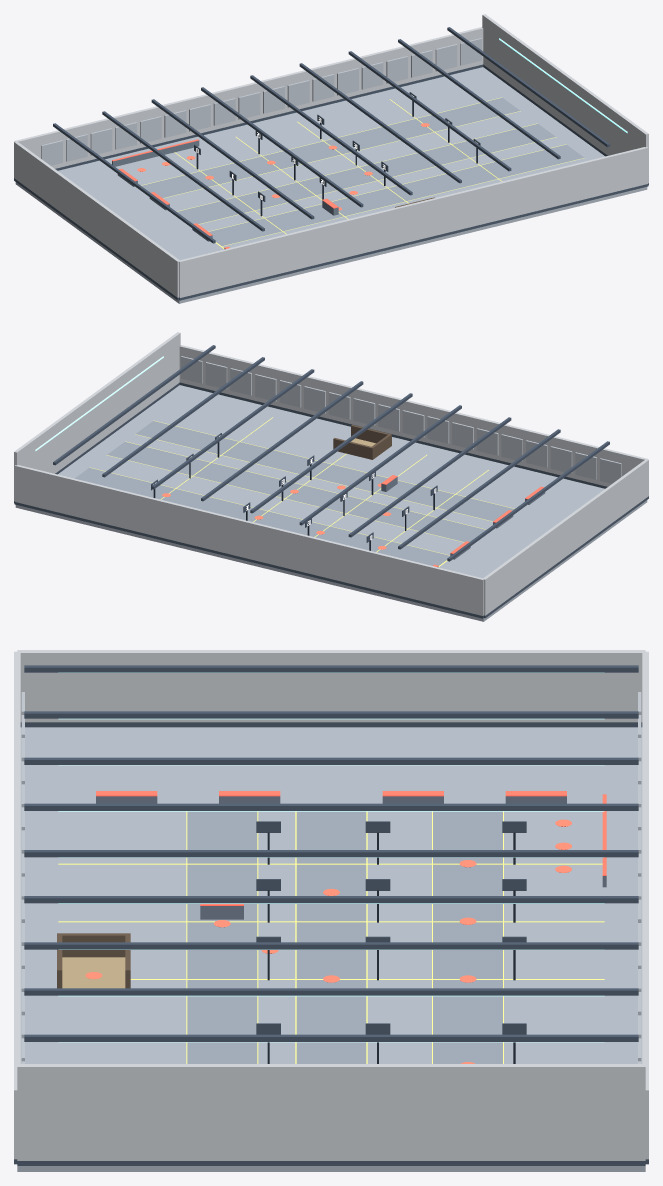
Rendered from range_visual.glb.
3 views of the same model, one above another, from view 1: azimuth 30°, elevation 25°; view 2: azimuth 150°, elevation 25°; view 3: azimuth 270°, elevation 25° (orthographic). The views are drawn at different scales.
Parts seen in each view (by area): view 1: DETAIL_batch, VIS_floor_range, VIS_wall_south, VIS_wall_north, VIS_wall_east, VIS_wall_west, VIS_yard_rail; view 2: DETAIL_batch, VIS_floor_range, VIS_wall_north, VIS_wall_south, VIS_wall_east, VIS_wall_west, VIS_pit_north; view 3: VIS_floor_range, DETAIL_batch, VIS_wall_east, VIS_wall_west, VIS_wall_north, VIS_wall_south, VIS_pit_front, VIS_bench_0, VIS_bench_1, VIS_bench_2, VIS_bench_3.
Boxes of the visible parts, bbox=[...] form: DETAIL_batch: bbox=[41, 27, 627, 248]; VIS_floor_range: bbox=[15, 67, 647, 303]; VIS_wall_south: bbox=[179, 147, 648, 300]; VIS_wall_north: bbox=[14, 27, 483, 170]; VIS_wall_east: bbox=[482, 14, 648, 185]; VIS_wall_west: bbox=[14, 141, 179, 300]; VIS_yard_rail: bbox=[112, 139, 199, 166]; DETAIL_batch: bbox=[35, 345, 621, 566]; VIS_floor_range: bbox=[15, 385, 647, 621]; VIS_wall_north: bbox=[14, 465, 484, 618]; VIS_wall_south: bbox=[179, 345, 648, 488]; VIS_wall_east: bbox=[14, 332, 180, 503]; VIS_wall_west: bbox=[483, 459, 648, 618]; VIS_pit_north: bbox=[333, 438, 373, 459]; VIS_floor_range: bbox=[17, 727, 645, 1171]; DETAIL_batch: bbox=[21, 665, 641, 1063]; VIS_wall_east: bbox=[17, 1064, 645, 1165]; VIS_wall_west: bbox=[17, 650, 645, 727]; VIS_wall_north: bbox=[642, 651, 648, 1164]; VIS_wall_south: bbox=[14, 651, 20, 1164]; VIS_pit_front: bbox=[59, 933, 125, 957]; VIS_bench_0: bbox=[505, 791, 566, 803]; VIS_bench_1: bbox=[382, 791, 443, 803]; VIS_bench_2: bbox=[219, 791, 280, 803]; VIS_bench_3: bbox=[96, 791, 157, 803].
Bounding box in the file's own units: 76.5 × 8.6 × 46.5.
